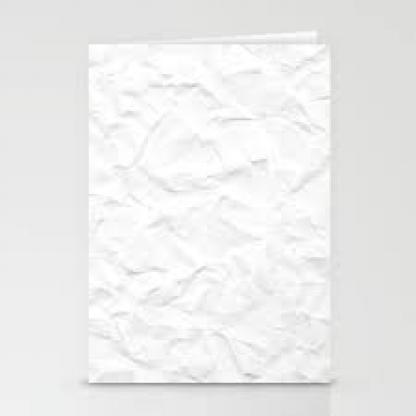paper: (83, 41, 329, 382), (102, 30, 316, 353)
